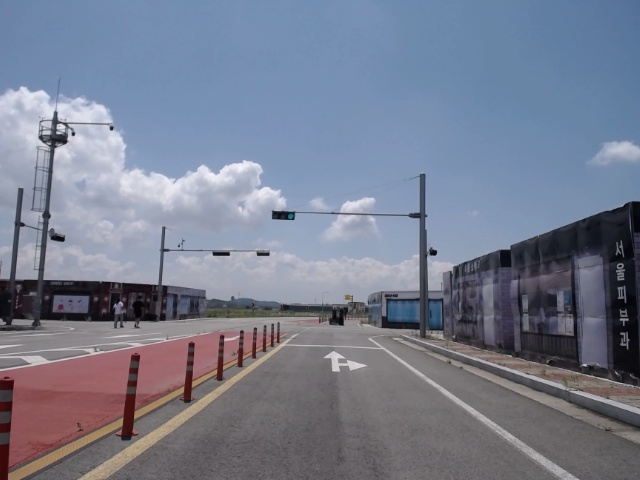green_3: (272, 212, 296, 220)
